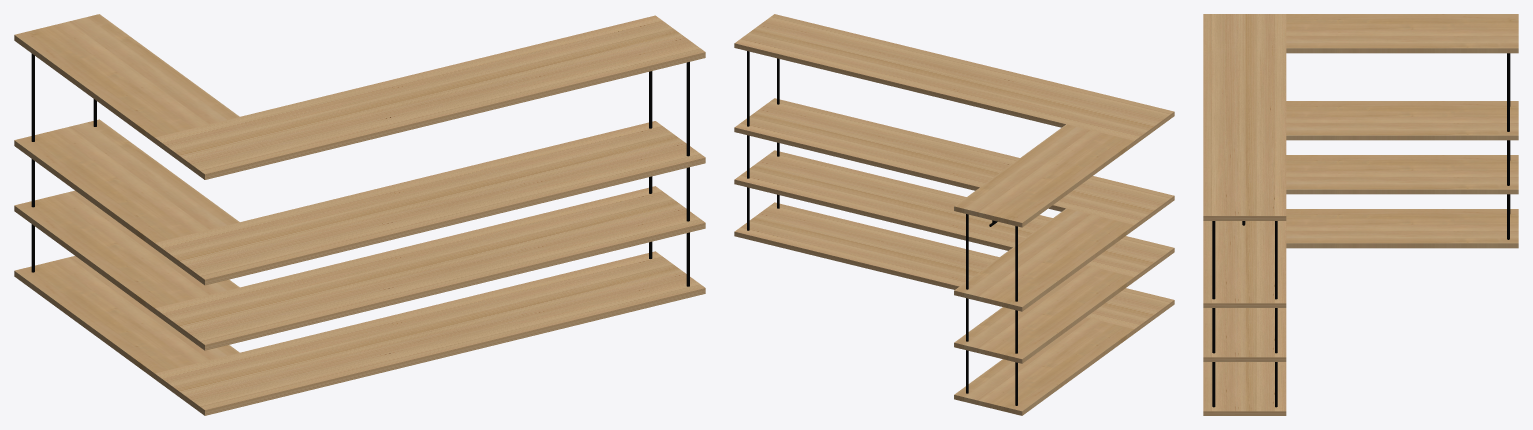
Rendered from hanger.fbx.
3 views of the same model, side by side, from view 1: azimuth 30°, elevation 25°; view 2: azimuth 150°, elevation 25°; view 3: azimuth 270°, elevation 25° (orthographic). The views are drawn at different scales.
Visible parts, largest first — view 1: pCube9, pCylinder14, pCylinder17; view 2: pCube9, pCylinder16, pCylinder17, pCylinder13; view 3: pCube9, pCylinder14, pCylinder16, pCylinder13.
Part boxes in pixels (left/top/right/bottom): pCube9: left=14, top=14, right=705, bottom=415; pCylinder14: left=686, top=62, right=689, bottom=286; pCylinder17: left=31, top=53, right=34, bottom=272; pCube9: left=734, top=14, right=1174, bottom=415; pCylinder16: left=966, top=214, right=968, bottom=393; pCylinder17: left=1015, top=226, right=1017, bottom=405; pCylinder13: left=747, top=51, right=749, bottom=230; pCube9: left=1203, top=14, right=1518, bottom=415; pCylinder14: left=1212, top=221, right=1215, bottom=407; pCylinder16: left=1507, top=53, right=1509, bottom=239; pCylinder13: left=1275, top=221, right=1277, bottom=407.
Bounding box in the file's own units: 0.1729 × 0.0798 × 0.114.
Materials: 2 (1 with a texture image).
